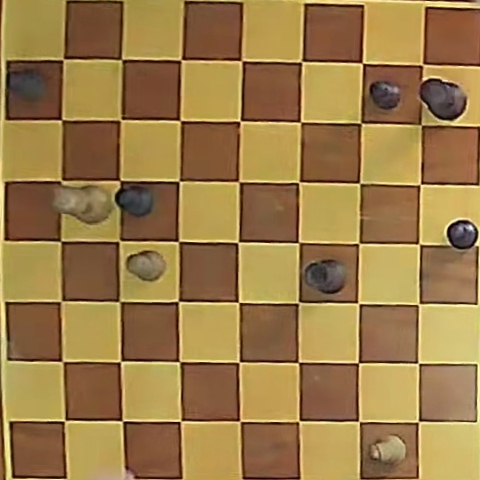black-king: (419, 78, 466, 121)
black-pawn: (8, 68, 46, 101), (116, 186, 154, 217), (446, 219, 478, 250), (370, 80, 402, 109)
black-rook: (304, 259, 346, 294)
white-bishop: (371, 436, 407, 465)
white-king: (54, 185, 112, 224)
white-pawn: (126, 251, 166, 281)
